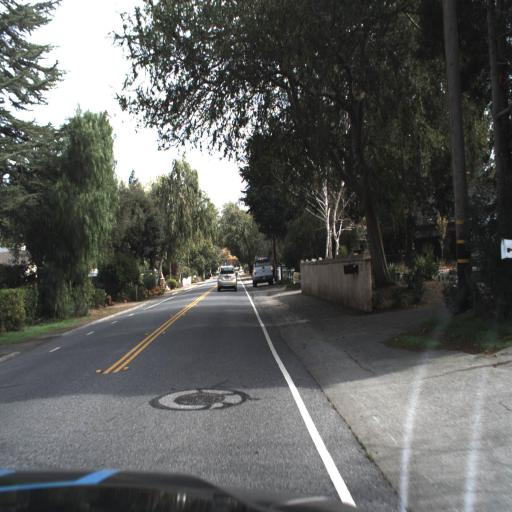car: (251, 251, 276, 286), (215, 259, 239, 288)
